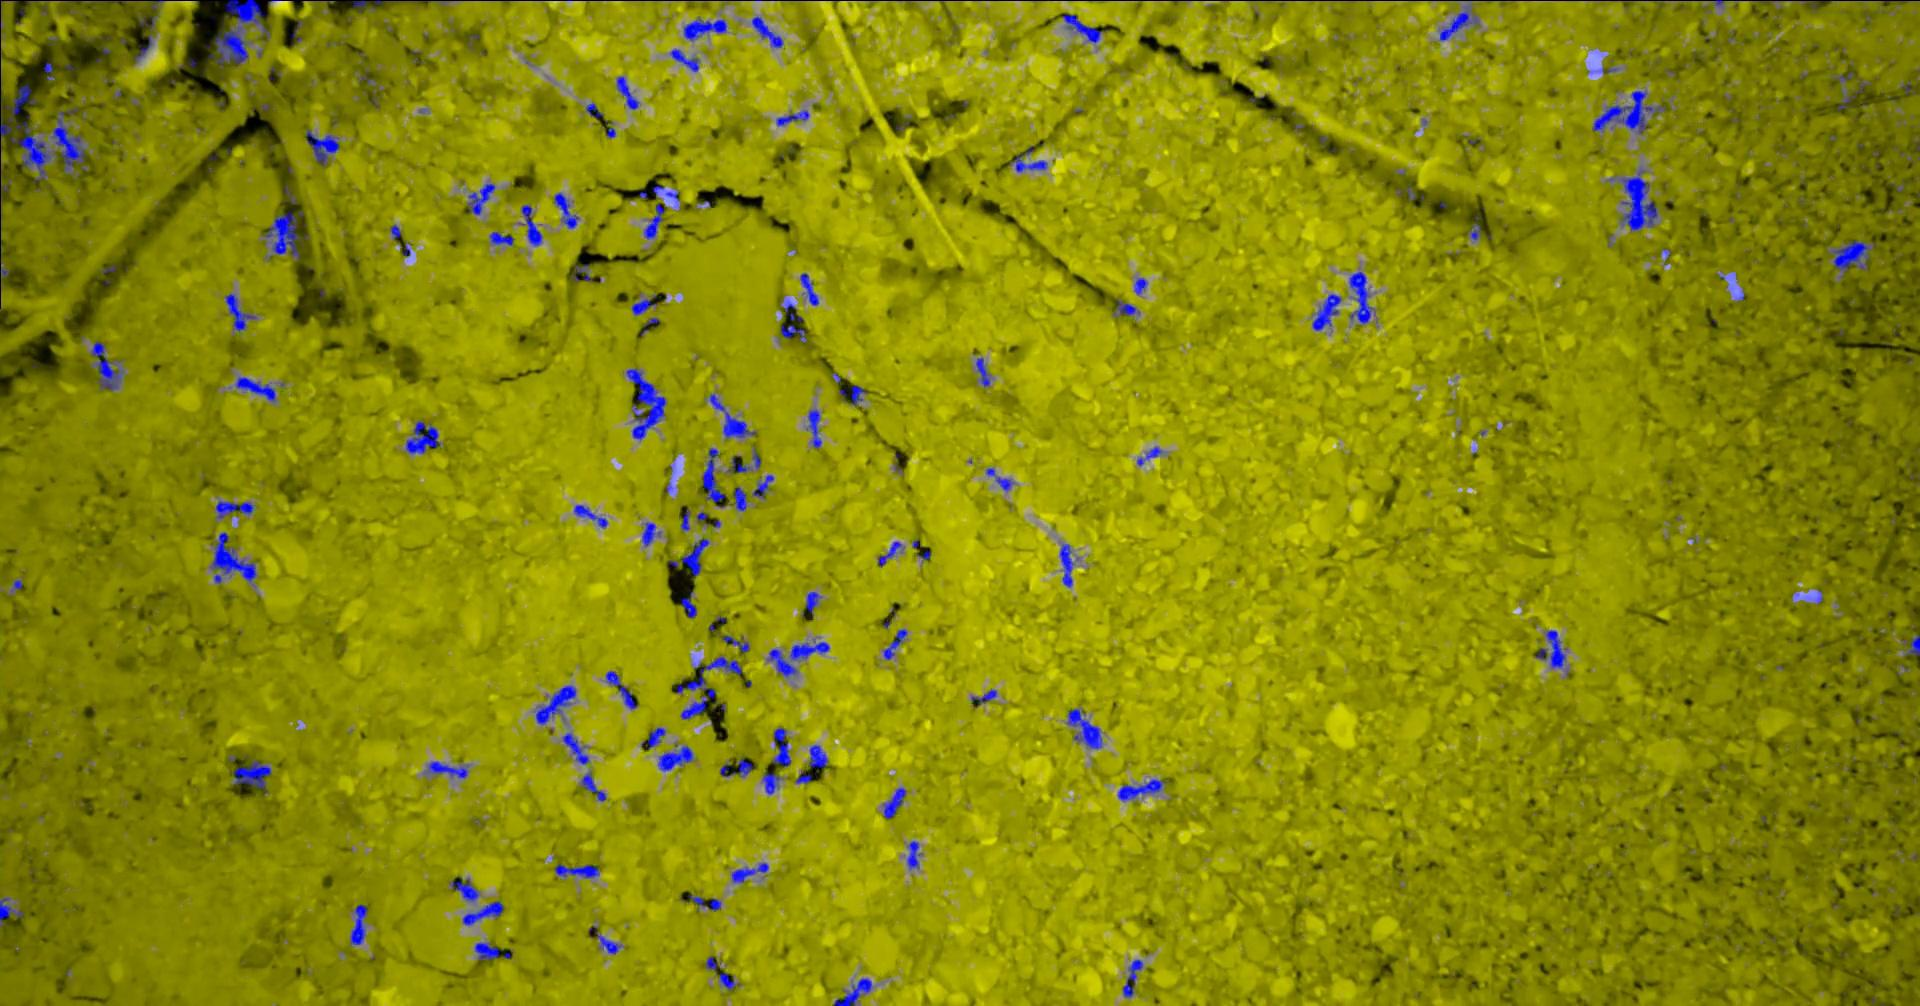ant: (676, 655, 742, 719), (766, 638, 829, 676), (210, 532, 257, 583), (709, 392, 756, 437), (0, 84, 36, 138), (263, 211, 301, 259), (1829, 240, 1874, 276), (535, 685, 575, 724), (90, 340, 122, 390), (669, 539, 709, 575), (1065, 708, 1101, 748), (701, 448, 724, 507), (1349, 271, 1374, 323), (1439, 6, 1478, 39), (305, 130, 339, 166), (223, 293, 257, 332), (604, 671, 637, 709), (1062, 13, 1100, 43), (133, 11, 156, 61), (405, 420, 439, 453), (1310, 293, 1341, 330), (780, 300, 806, 342), (1535, 629, 1564, 667), (232, 760, 270, 788), (1008, 145, 1048, 171), (1117, 779, 1166, 800), (235, 376, 276, 401), (833, 978, 871, 1005), (683, 17, 726, 39), (657, 744, 693, 771), (462, 901, 503, 925), (750, 17, 782, 47), (588, 925, 621, 953), (552, 192, 578, 227), (521, 205, 542, 245), (563, 732, 589, 763), (467, 183, 494, 213), (573, 504, 607, 527), (771, 727, 790, 766), (643, 203, 664, 238), (883, 629, 907, 659), (582, 771, 606, 801), (1123, 959, 1142, 997), (215, 500, 255, 518), (616, 76, 637, 109), (425, 761, 469, 777), (731, 862, 768, 882), (883, 788, 905, 818), (985, 467, 1013, 492), (450, 876, 477, 901), (669, 48, 698, 71), (350, 904, 367, 944), (877, 541, 904, 565), (0, 897, 22, 926), (799, 272, 818, 305), (719, 757, 752, 776), (1059, 542, 1073, 587), (474, 942, 510, 959), (806, 409, 822, 447), (554, 864, 599, 876), (838, 384, 865, 405), (750, 474, 773, 498), (641, 727, 665, 749), (0, 163, 8, 230), (719, 635, 749, 652), (687, 894, 720, 909), (1137, 446, 1162, 465), (775, 111, 808, 124), (808, 744, 827, 768), (905, 840, 921, 869), (1112, 298, 1139, 315), (641, 522, 660, 545), (975, 357, 989, 387), (805, 591, 822, 616), (970, 688, 996, 705), (681, 591, 696, 617), (726, 456, 750, 473), (631, 298, 657, 314), (1836, 91, 1855, 111), (1902, 634, 1919, 655), (762, 772, 778, 794), (1801, 0, 1831, 11), (0, 238, 8, 283), (571, 263, 590, 281), (489, 231, 513, 245), (717, 972, 735, 989), (733, 486, 745, 511), (372, 0, 430, 5), (1469, 215, 1481, 239), (585, 103, 603, 117), (703, 956, 720, 970), (43, 61, 55, 80), (1134, 277, 1147, 293), (795, 770, 811, 782), (681, 508, 690, 530), (352, 0, 367, 11), (390, 224, 400, 239), (65, 0, 126, 1)
